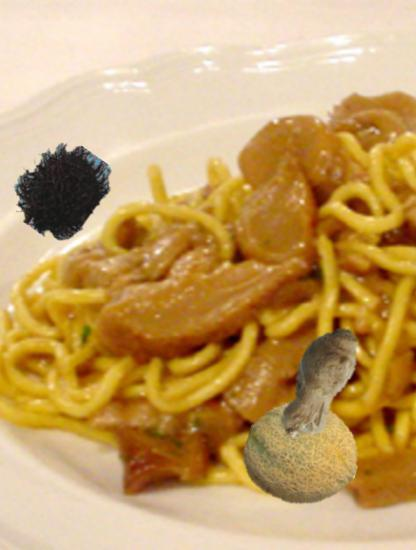Cantaloupe: (245, 396, 360, 511)
Ginger: (255, 320, 382, 447)
Rambutan: (12, 141, 108, 237)
